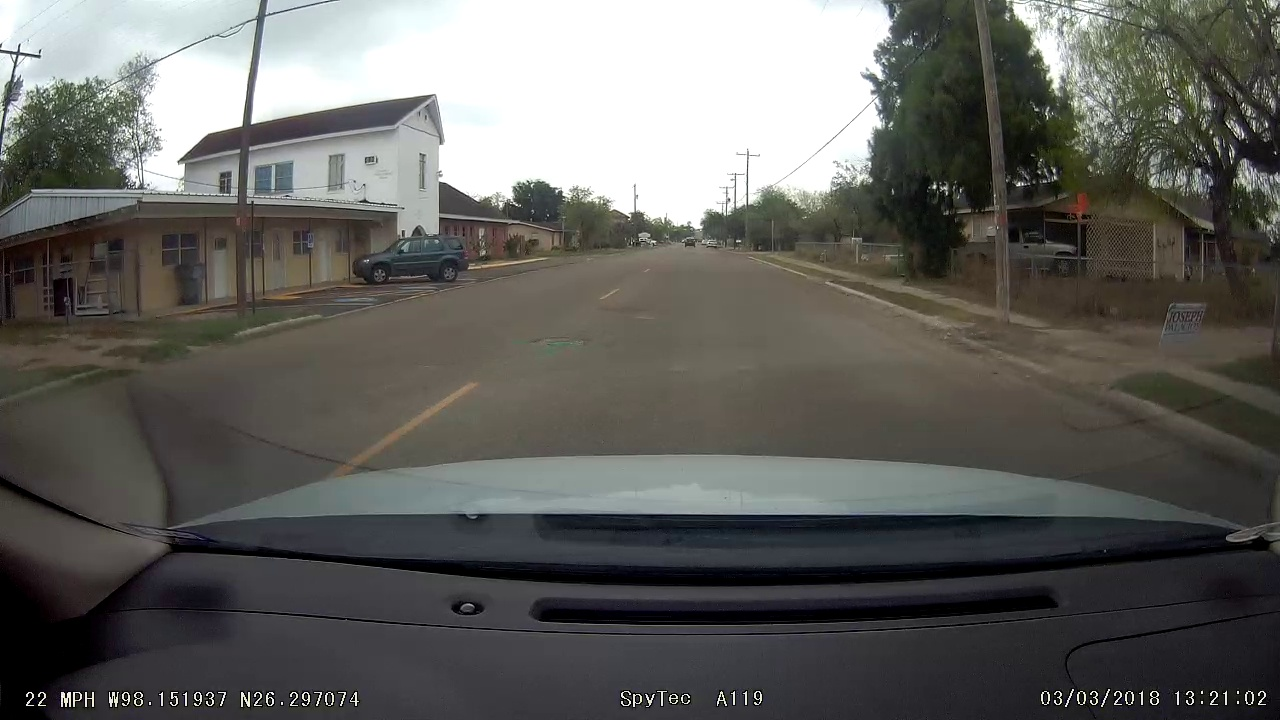manhole: (509, 315, 601, 369)
